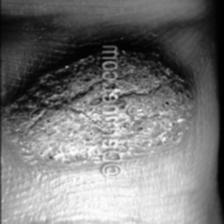Toxin: (2, 50, 194, 164)
